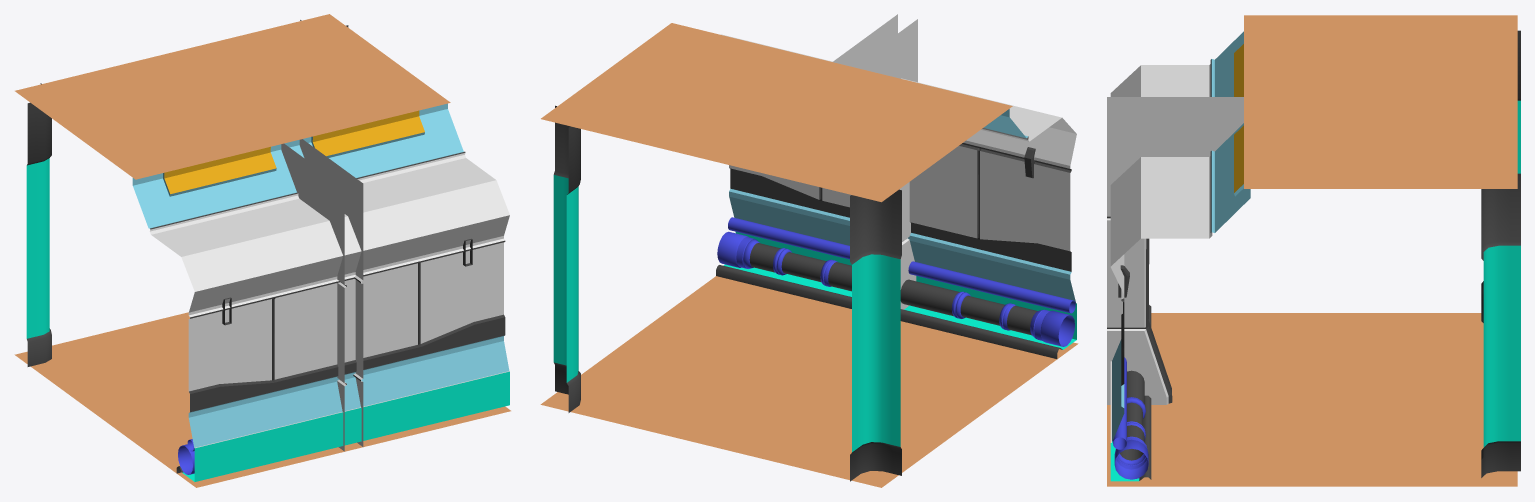
File: HallHalfWall_Corner.fbx
The picture shows the model from 3 angles, left to right: view 1: azimuth 30°, elevation 25°; view 2: azimuth 150°, elevation 25°; view 3: azimuth 270°, elevation 25°; orthographic projection. The views are drawn at different scales.
Visible parts, largest first — view 1: HallHalfWall_Corner; view 2: HallHalfWall_Corner; view 3: HallHalfWall_Corner.
Part boxes in pixels (x1,y1,x2,y2): HallHalfWall_Corner: [14, 14, 510, 487]; HallHalfWall_Corner: [540, 14, 1078, 487]; HallHalfWall_Corner: [1107, 15, 1520, 486].
Bounding box in the file's own units: 6.1 × 4.8 × 6.05.
